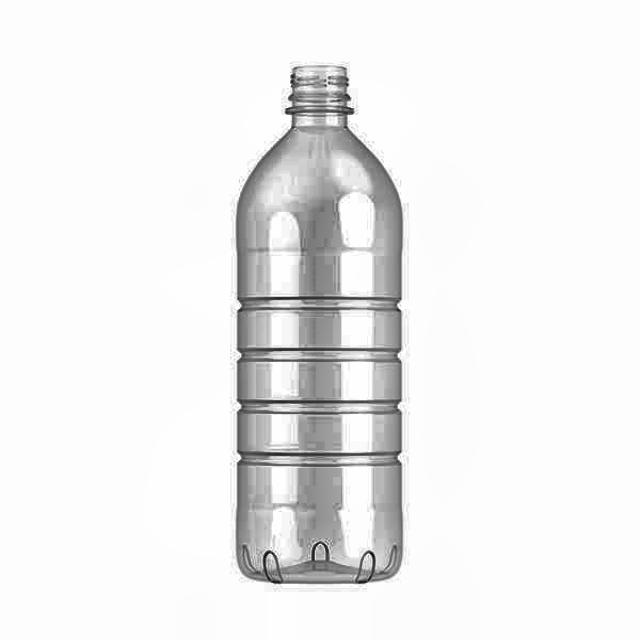plastic bottle: (186, 54, 440, 594)
